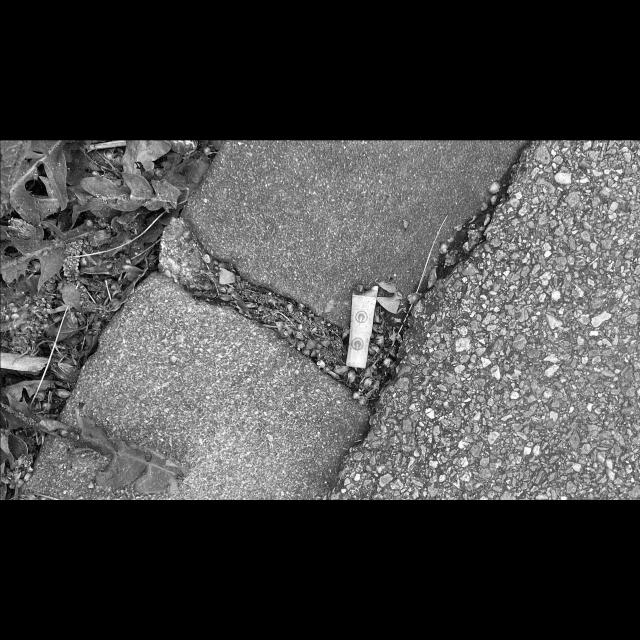cigarette: (345, 285, 378, 369)
